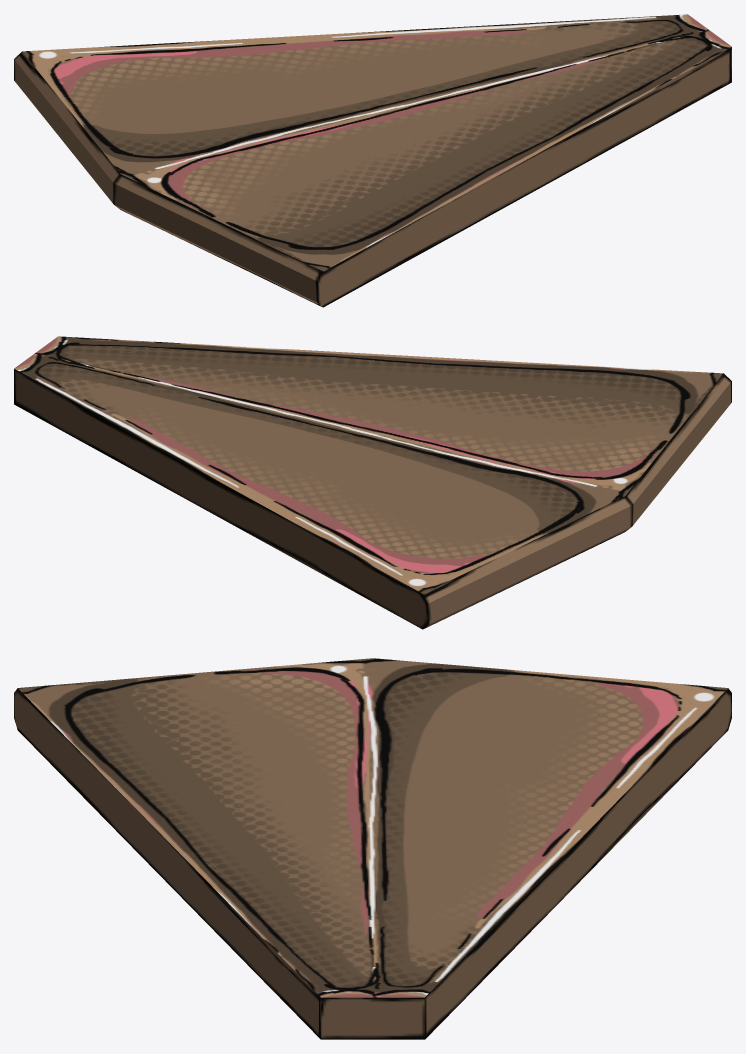
File: Sliced_LilyPadLeaf_Mesh.fbx
3 views of the same model, one above another, from view 1: azimuth 30°, elevation 25°; view 2: azimuth 150°, elevation 25°; view 3: azimuth 270°, elevation 25° (orthographic). The views are drawn at different scales.
Parts seen in each view (by area): view 1: Leaf; view 2: Leaf; view 3: Leaf.
Part boxes in pixels (box(x1,y1,x2,y2)): Leaf: box(14, 14, 731, 307); Leaf: box(14, 336, 731, 629); Leaf: box(14, 658, 731, 1039).
Size of the model in its own units: 1732 by 99.46 by 1531.
